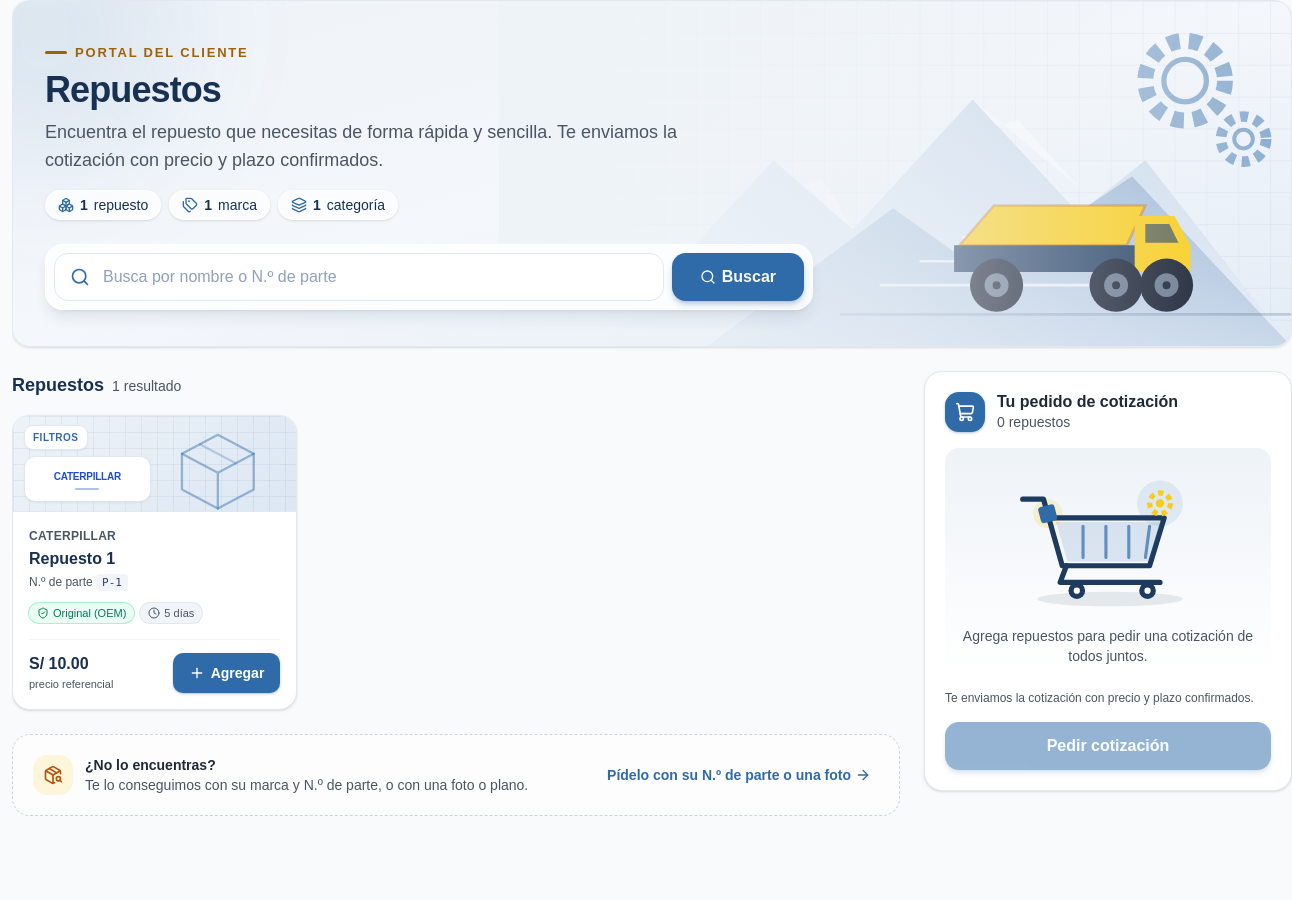
Scenario: Acabado visual del portal › Repuestos › sin resultados muestra la ilustración y «Limpiar búsqueda» restablece la lista
expect the heading "Repuesto 1" is shown: met, box [29,550,115,567]
Type "zzz" into the search field with placeholder "Busca por nombre o N.º de parte" at x=359, y=277, box [54,253,664,301]
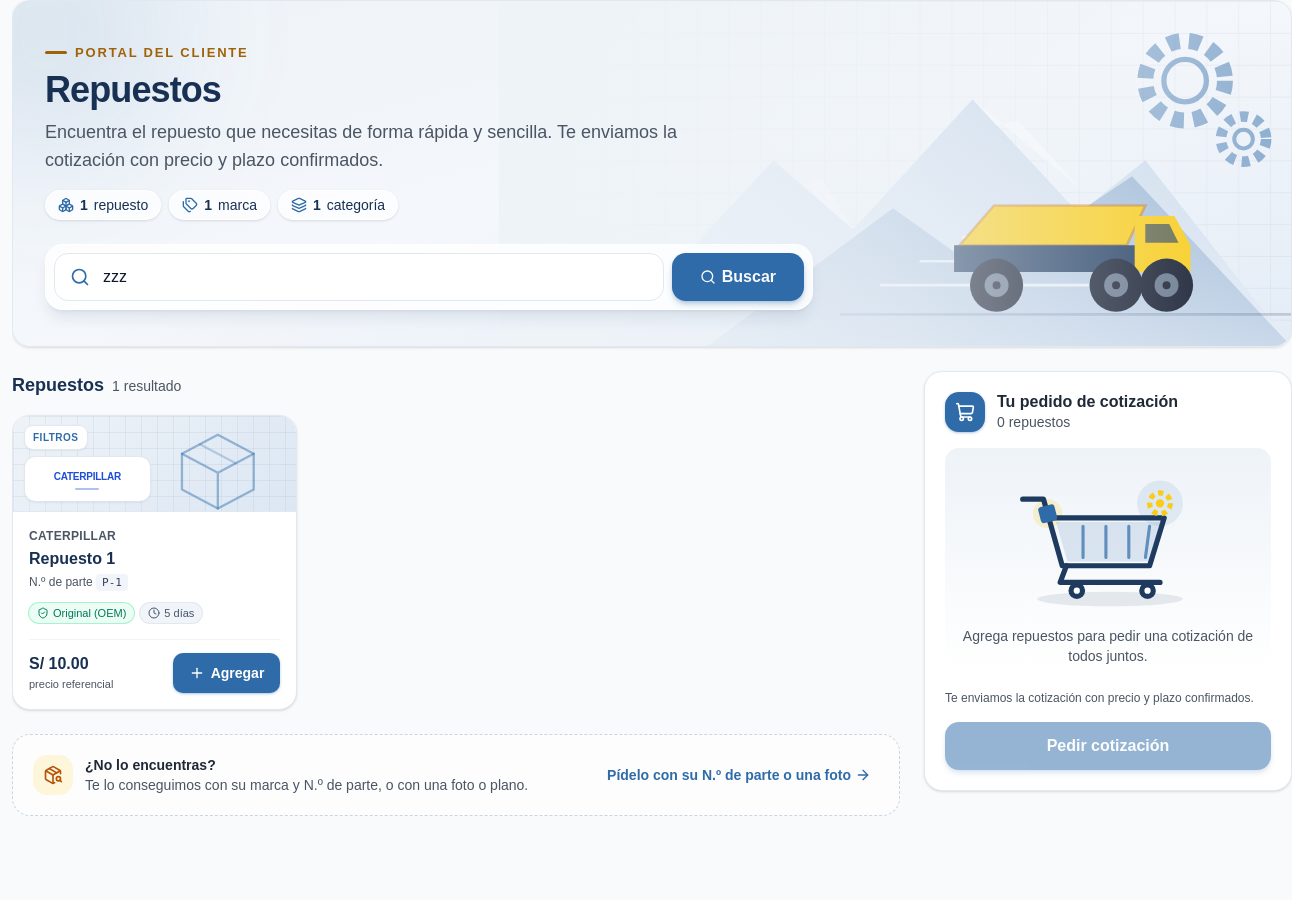
Click the button "Buscar" at x=738, y=277, box [672,253,804,301]
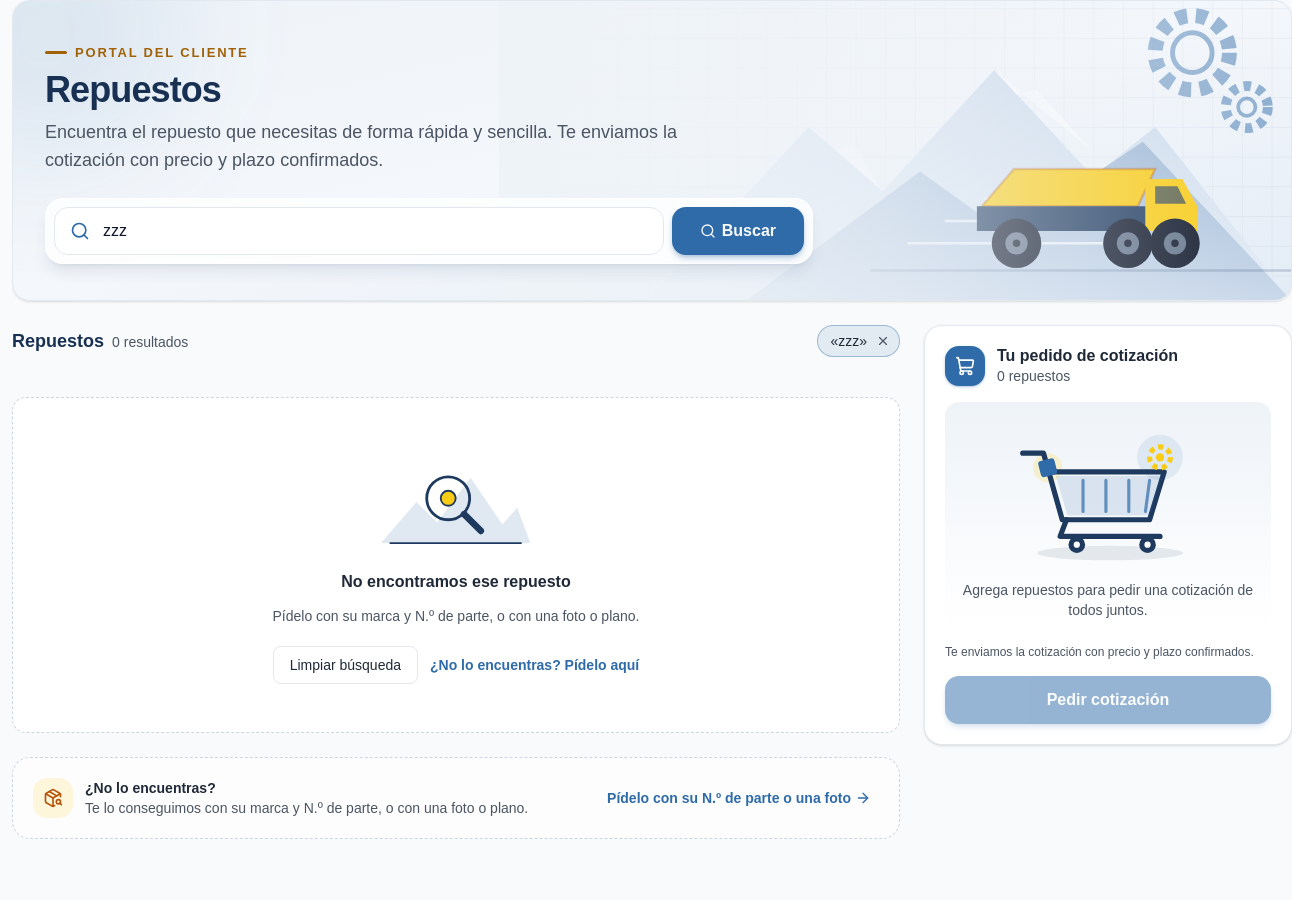
expect the icon with test id "ilustracion-vacia" is shown: met, box [381,446,531,558]
Click the button "Limpiar búsqueda" at x=345, y=665, box [273,646,418,684]
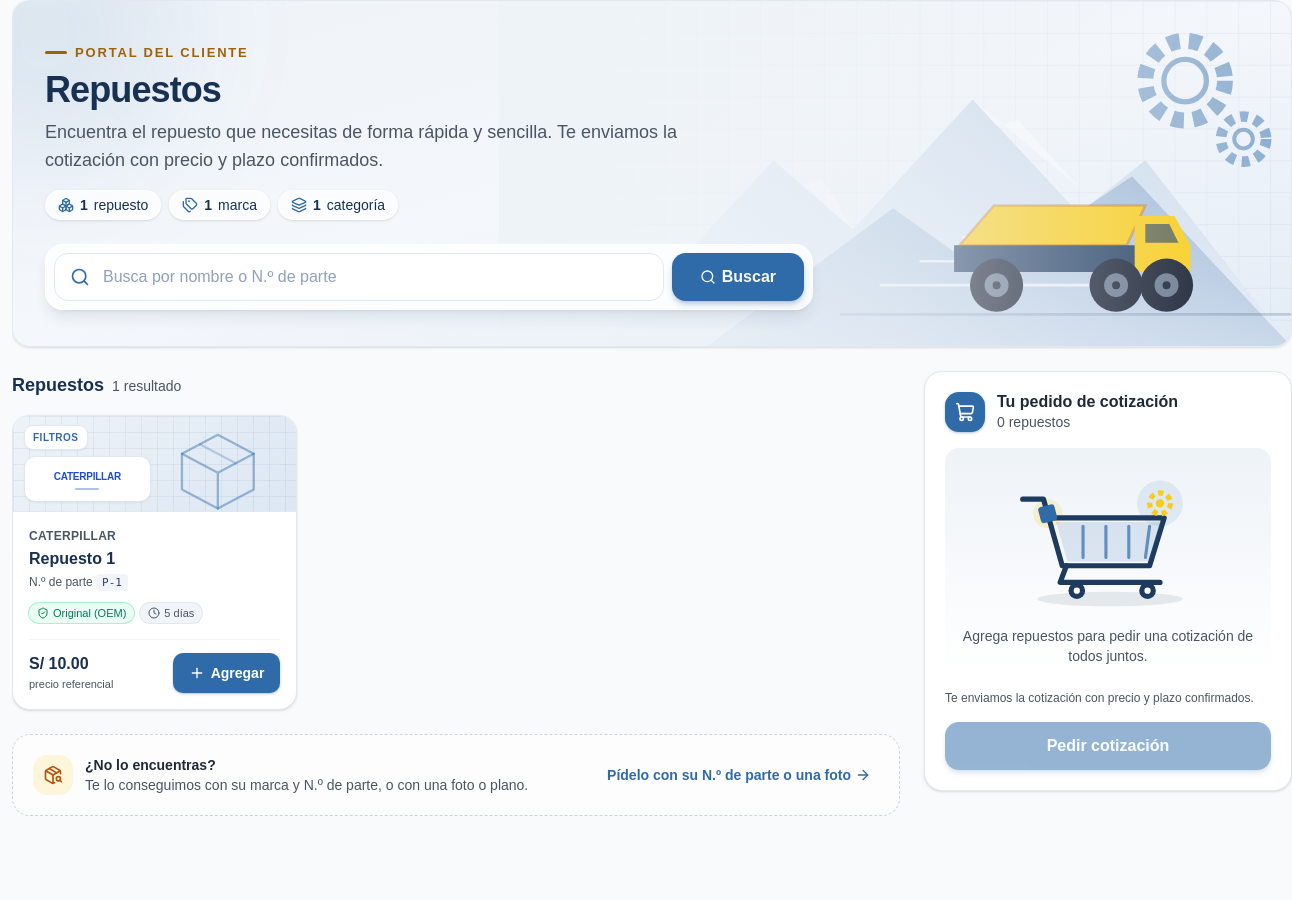
expect the heading "Repuesto 1" is shown: met, box [29,550,115,567]
expect the search field named "Buscar por nombre o N.º de parte" is empty: met, box [54,253,664,301]
